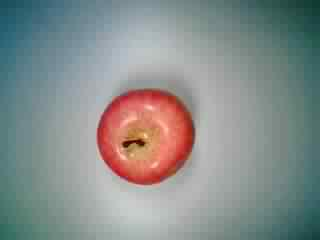apple: (91, 84, 197, 188)
